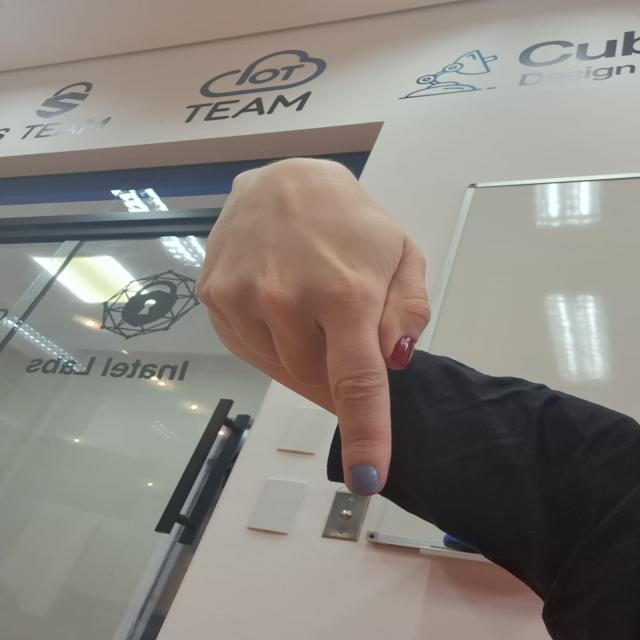Q: (195, 144, 437, 506)
